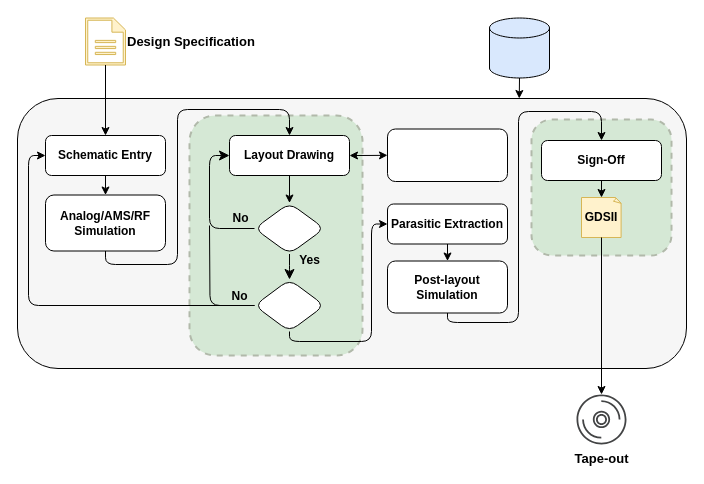
Image size: 704x484. Some labels were removed from this diagram. Each missing label, with the centre of its shape:
"DRC" goes at (x=289, y=228).
"ElectroMagnetic Simulation" goes at (x=447, y=155).
"LVS" goes at (x=289, y=305).
"PDK" goes at (x=519, y=47).
